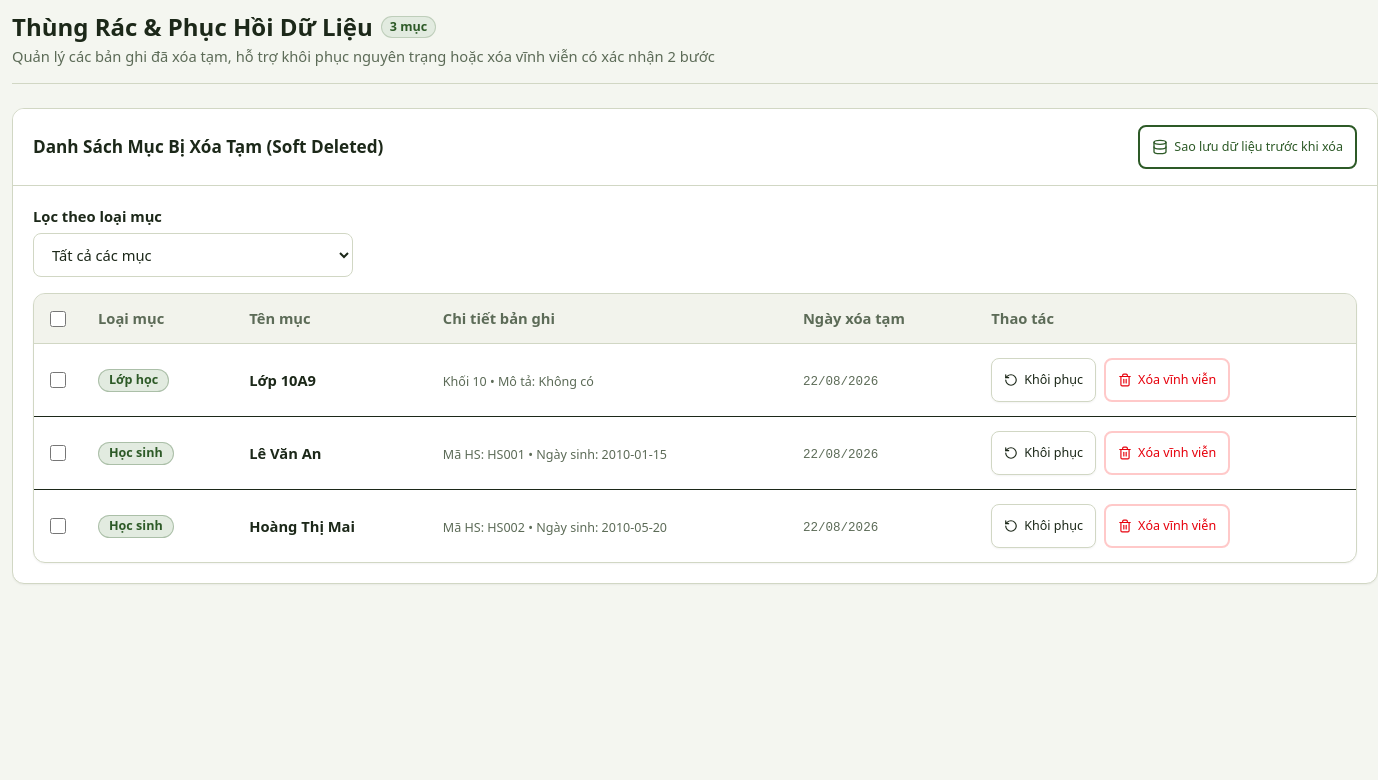
Test case: TrashPage UI & Bulk Operations Tests › 2. Shows floating bulk action bar when items are selected
The width and height of the screenshot is (1378, 780).
Expected: the text "Lớp 10A9" is shown, [249,370,316,390]
# Click select-all checkbox
Click the checkbox named "Chọn tất cả mục".
click(58, 318)  # box [50,310,66,326]
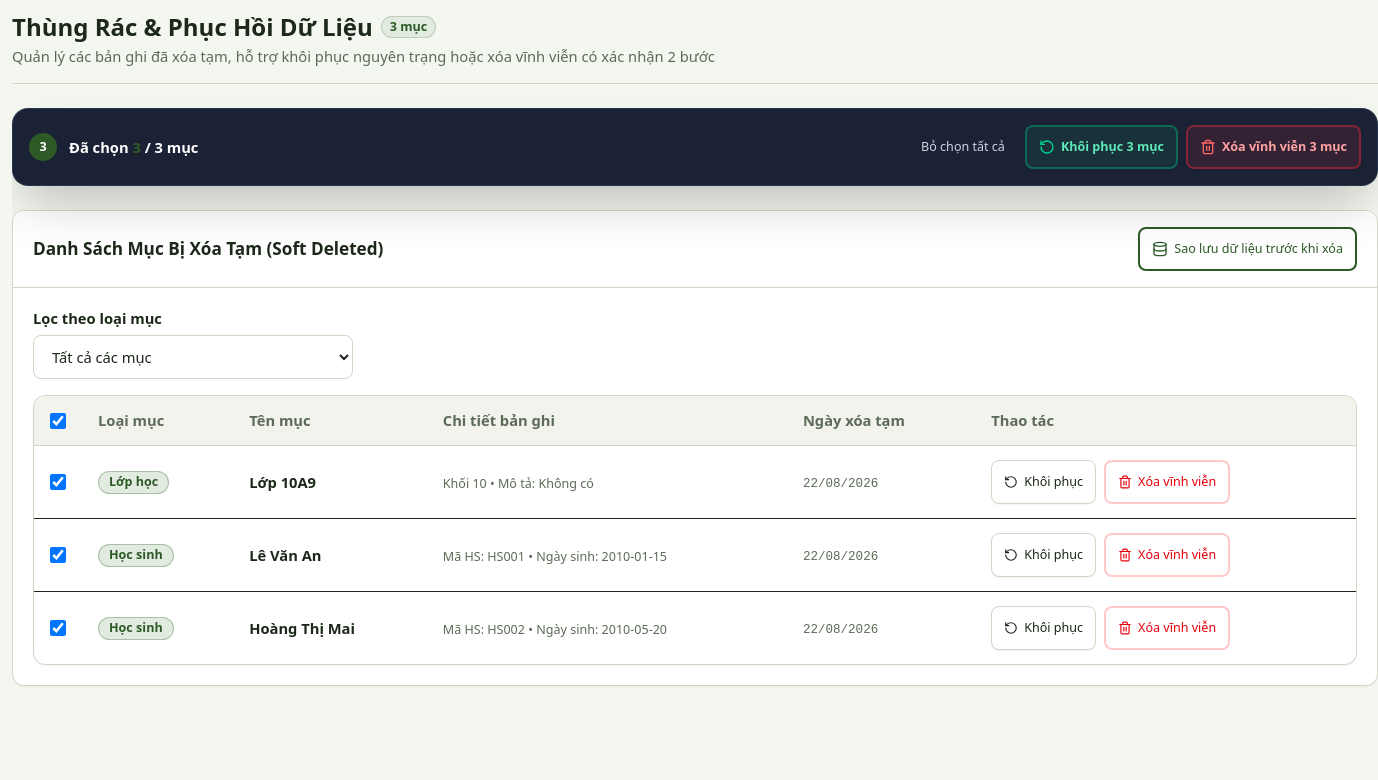
Result: the element with test id "trash-bulk-action-bar" is shown at [12,108,1377,186]
Result: the text "Khôi phục 3 mục" is shown at [1061,139,1164,155]
Result: the text "Xóa vĩnh viễn 3 mục" is shown at [1222,139,1347,155]
